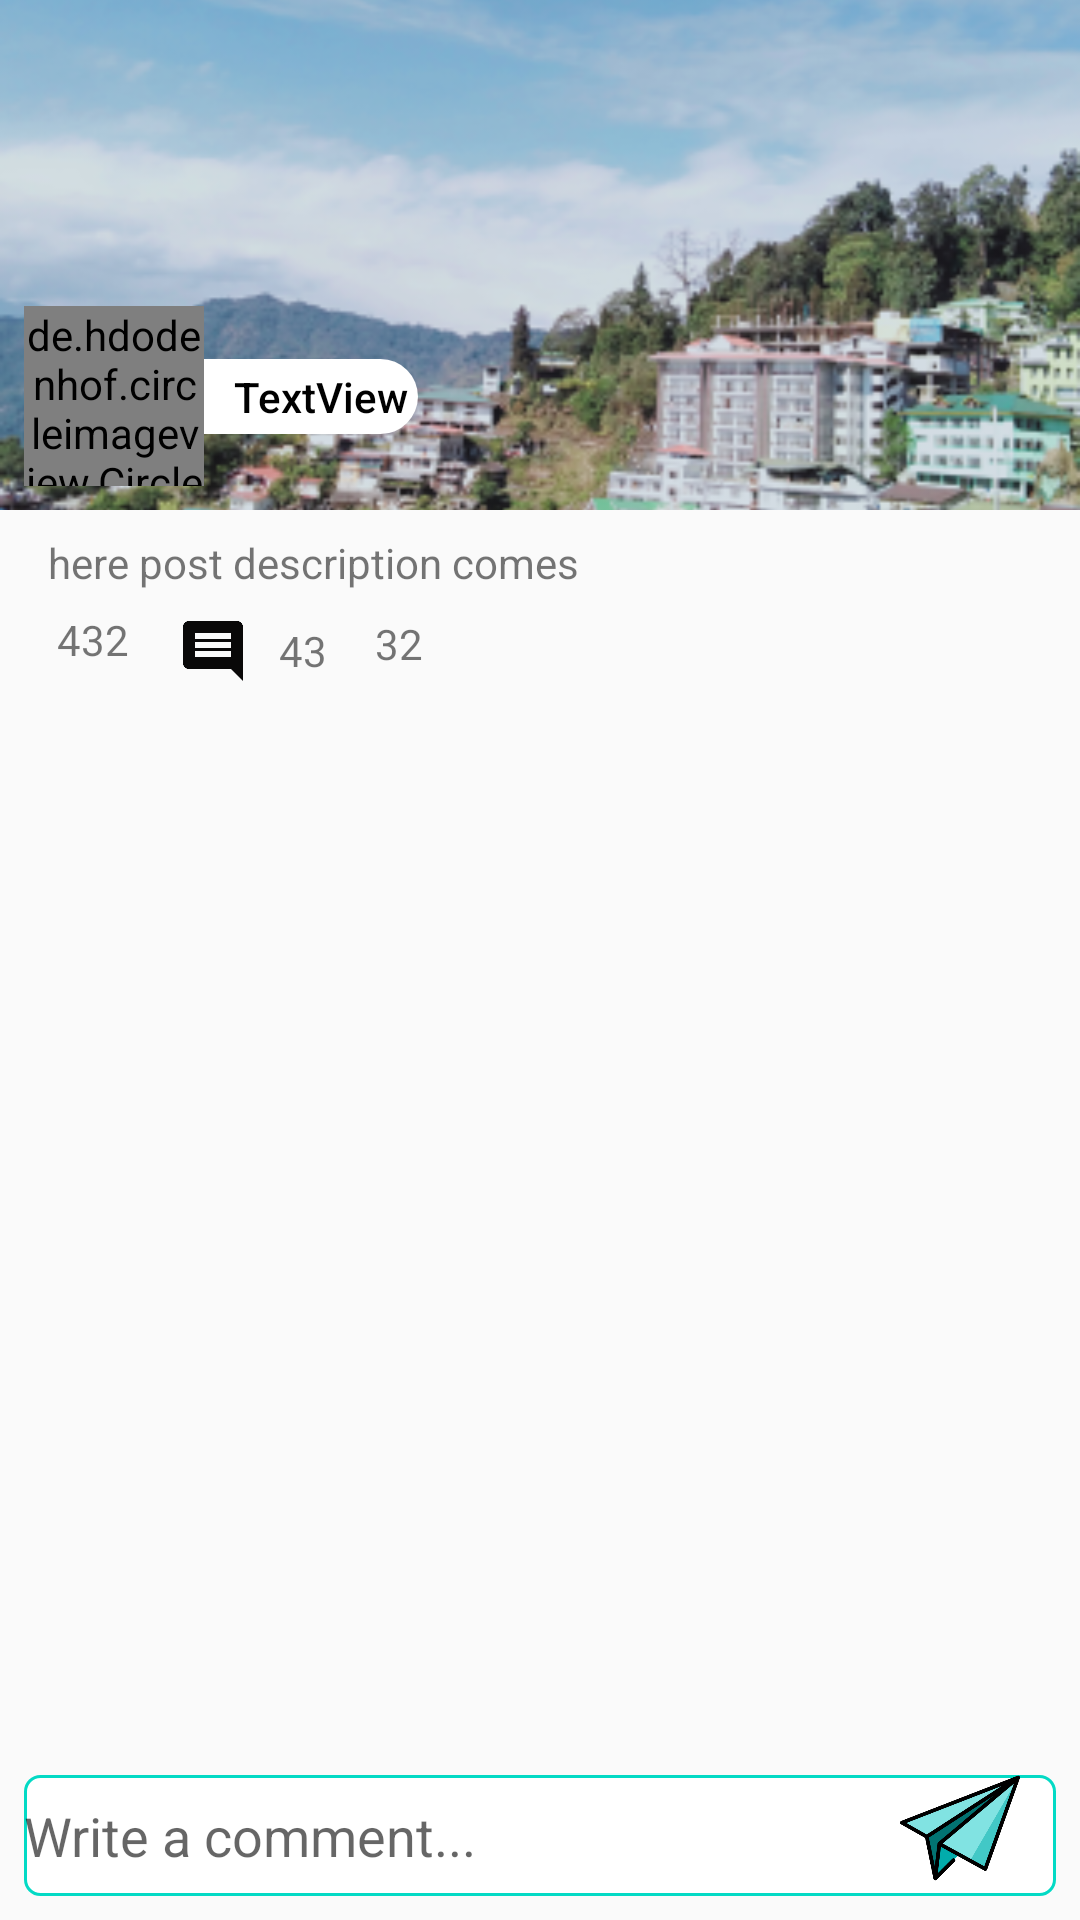

Screen size 1080px×1920px. Icon name, then its center in pixels as (x=x, y=y):
sendbutton: (x=960, y=1828)
